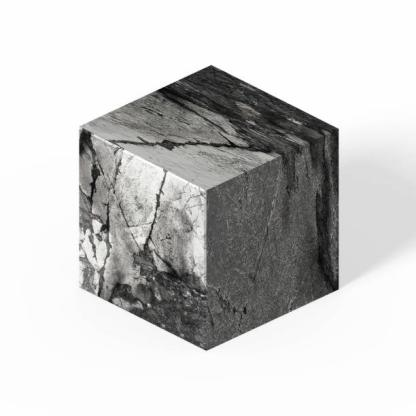Metamorphic_Marble: (68, 47, 346, 352)
